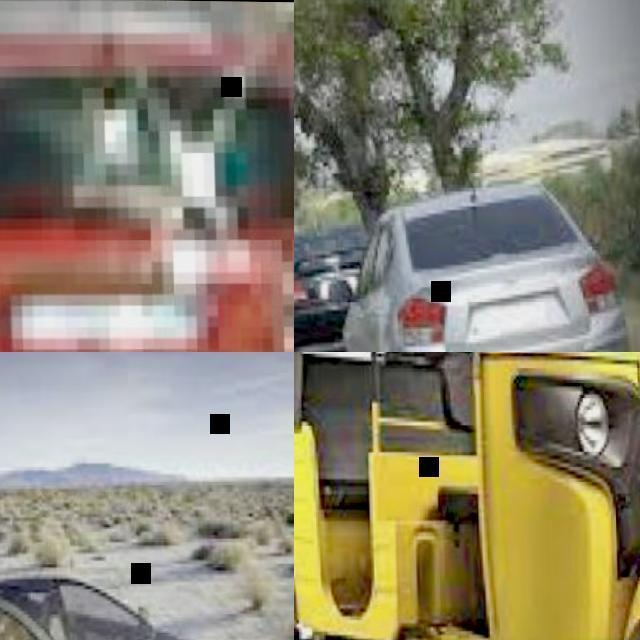car: (287, 176, 638, 639)
